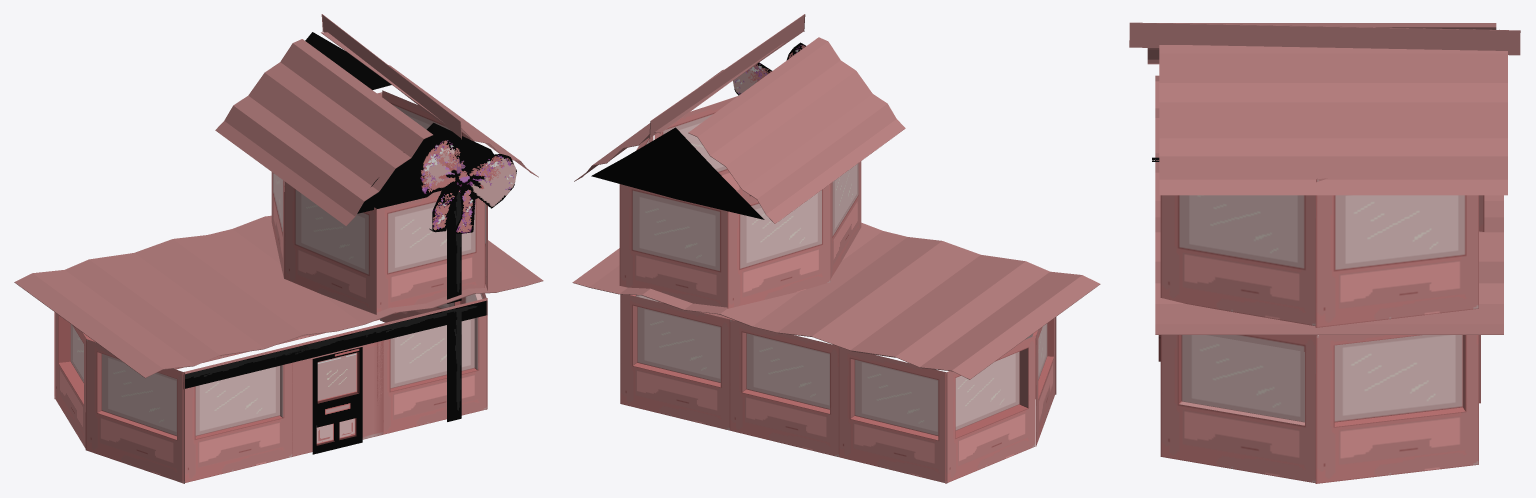
Rendered from Ribbon_Shop.fbx.
3 views of the same model, side by side, from view 1: azimuth 30°, elevation 25°; view 2: azimuth 150°, elevation 25°; view 3: azimuth 270°, elevation 25° (orthographic). The views are drawn at different scales.
Parts seen in each view (by area): view 1: Plane.020, Plane.018, Plane.002, Plane.007, Plane.004, Plane.012, Plane.017, Plane.001, Plane.029, Plane, Plane.003, Plane.030 (+11 smaller); view 2: Plane.020, Plane.018, Plane.011, Plane.010, Plane.009, Plane.013, Plane.005, Plane.016, Plane.031, Plane.029, Plane.017, Plane.028 (+4 smaller); view 3: Plane.019, Plane.008, Plane.006, Plane.014, Plane.015, Plane.029, Plane.028, Plane.018, Plane.020.
Boxes of the visible parts, x1,y1,x2,y2 form: Plane.020: (14, 231, 351, 378); Plane.018: (215, 39, 432, 225); Plane.002: (182, 345, 292, 483); Plane.007: (85, 339, 184, 483); Plane.004: (377, 298, 487, 434); Plane.012: (376, 190, 484, 313); Plane.017: (284, 181, 376, 314); Plane.001: (419, 138, 516, 233); Plane.029: (221, 215, 543, 327); Plane: (312, 347, 362, 454); Plane.003: (289, 323, 383, 456); Plane.030: (357, 123, 493, 213); Plane.020: (764, 233, 1100, 379); Plane.018: (688, 37, 905, 223); Plane.011: (620, 294, 729, 430); Plane.010: (730, 319, 839, 456); Plane.009: (839, 347, 947, 483); Plane.013: (619, 184, 727, 307); Plane.005: (945, 335, 1035, 483); Plane.016: (727, 184, 830, 308); Plane.031: (591, 127, 764, 219); Plane.029: (572, 222, 893, 329); Plane.017: (830, 161, 861, 278); Plane.028: (649, 14, 805, 138); Plane.019: (1159, 45, 1507, 195); Plane.008: (1315, 335, 1478, 483); Plane.006: (1160, 335, 1317, 483); Plane.014: (1315, 178, 1478, 327); Plane.015: (1160, 195, 1315, 326); Plane.029: (1155, 210, 1503, 334); Plane.028: (1129, 22, 1520, 55); Plane.018: (1147, 23, 1496, 64); Plane.020: (1155, 75, 1503, 209).
Size of the model in its own units: 548 by 407 by 351.
30 materials, 30 textured.
